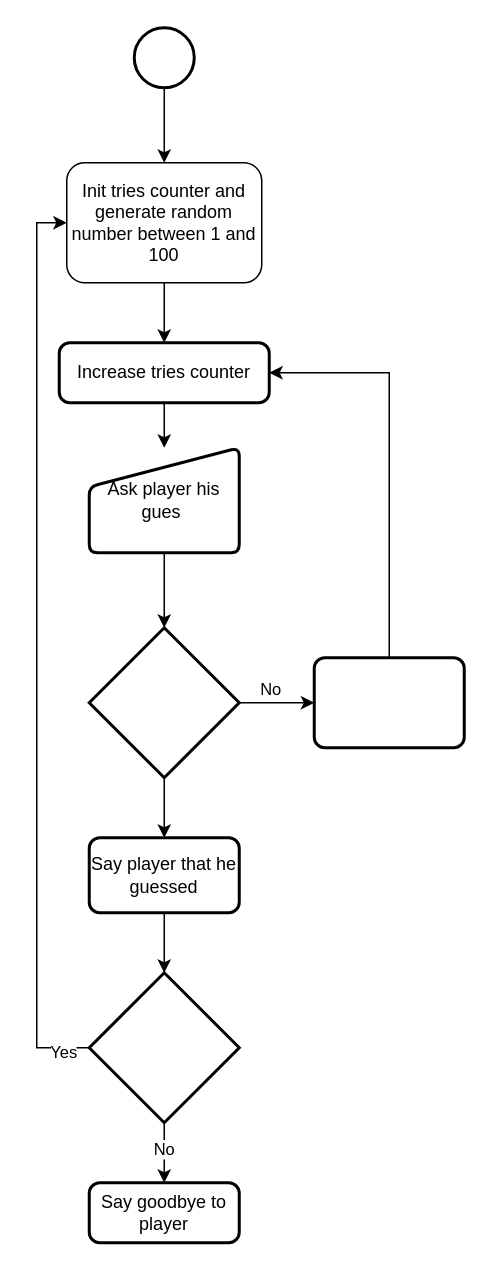
Image size: 492x1269. Some labels were removed from this diagram. Each missing label, with the centre of its shape:
"Player guessed?" belongs at point 163,702.
"Player wants to repeat?" belongs at point 163,1047.
"Say player number is lower or greater" belongs at point 388,702.
